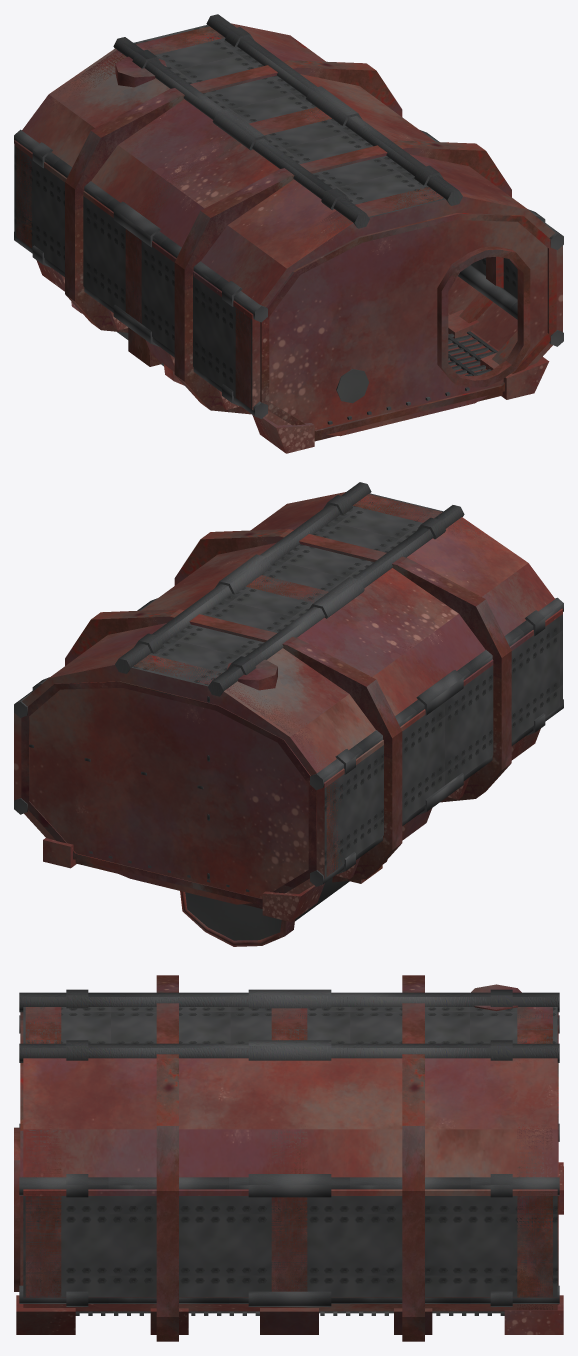
The model's file is Engine_Room.obj.
The picture shows the model from 3 angles, top to bottom: view 1: azimuth 30°, elevation 25°; view 2: azimuth 150°, elevation 25°; view 3: azimuth 270°, elevation 25°; orthographic projection. The views are drawn at different scales.
Visible parts, largest first — view 1: Cube.011; view 2: Cube.011; view 3: Cube.011.
Boxes of the visible parts, x1,y1,x2,y2 form: Cube.011: [14, 14, 563, 453]; Cube.011: [14, 482, 563, 946]; Cube.011: [14, 975, 563, 1341].
Size of the model in its own units: 6.32 by 5.03 by 8.2.
